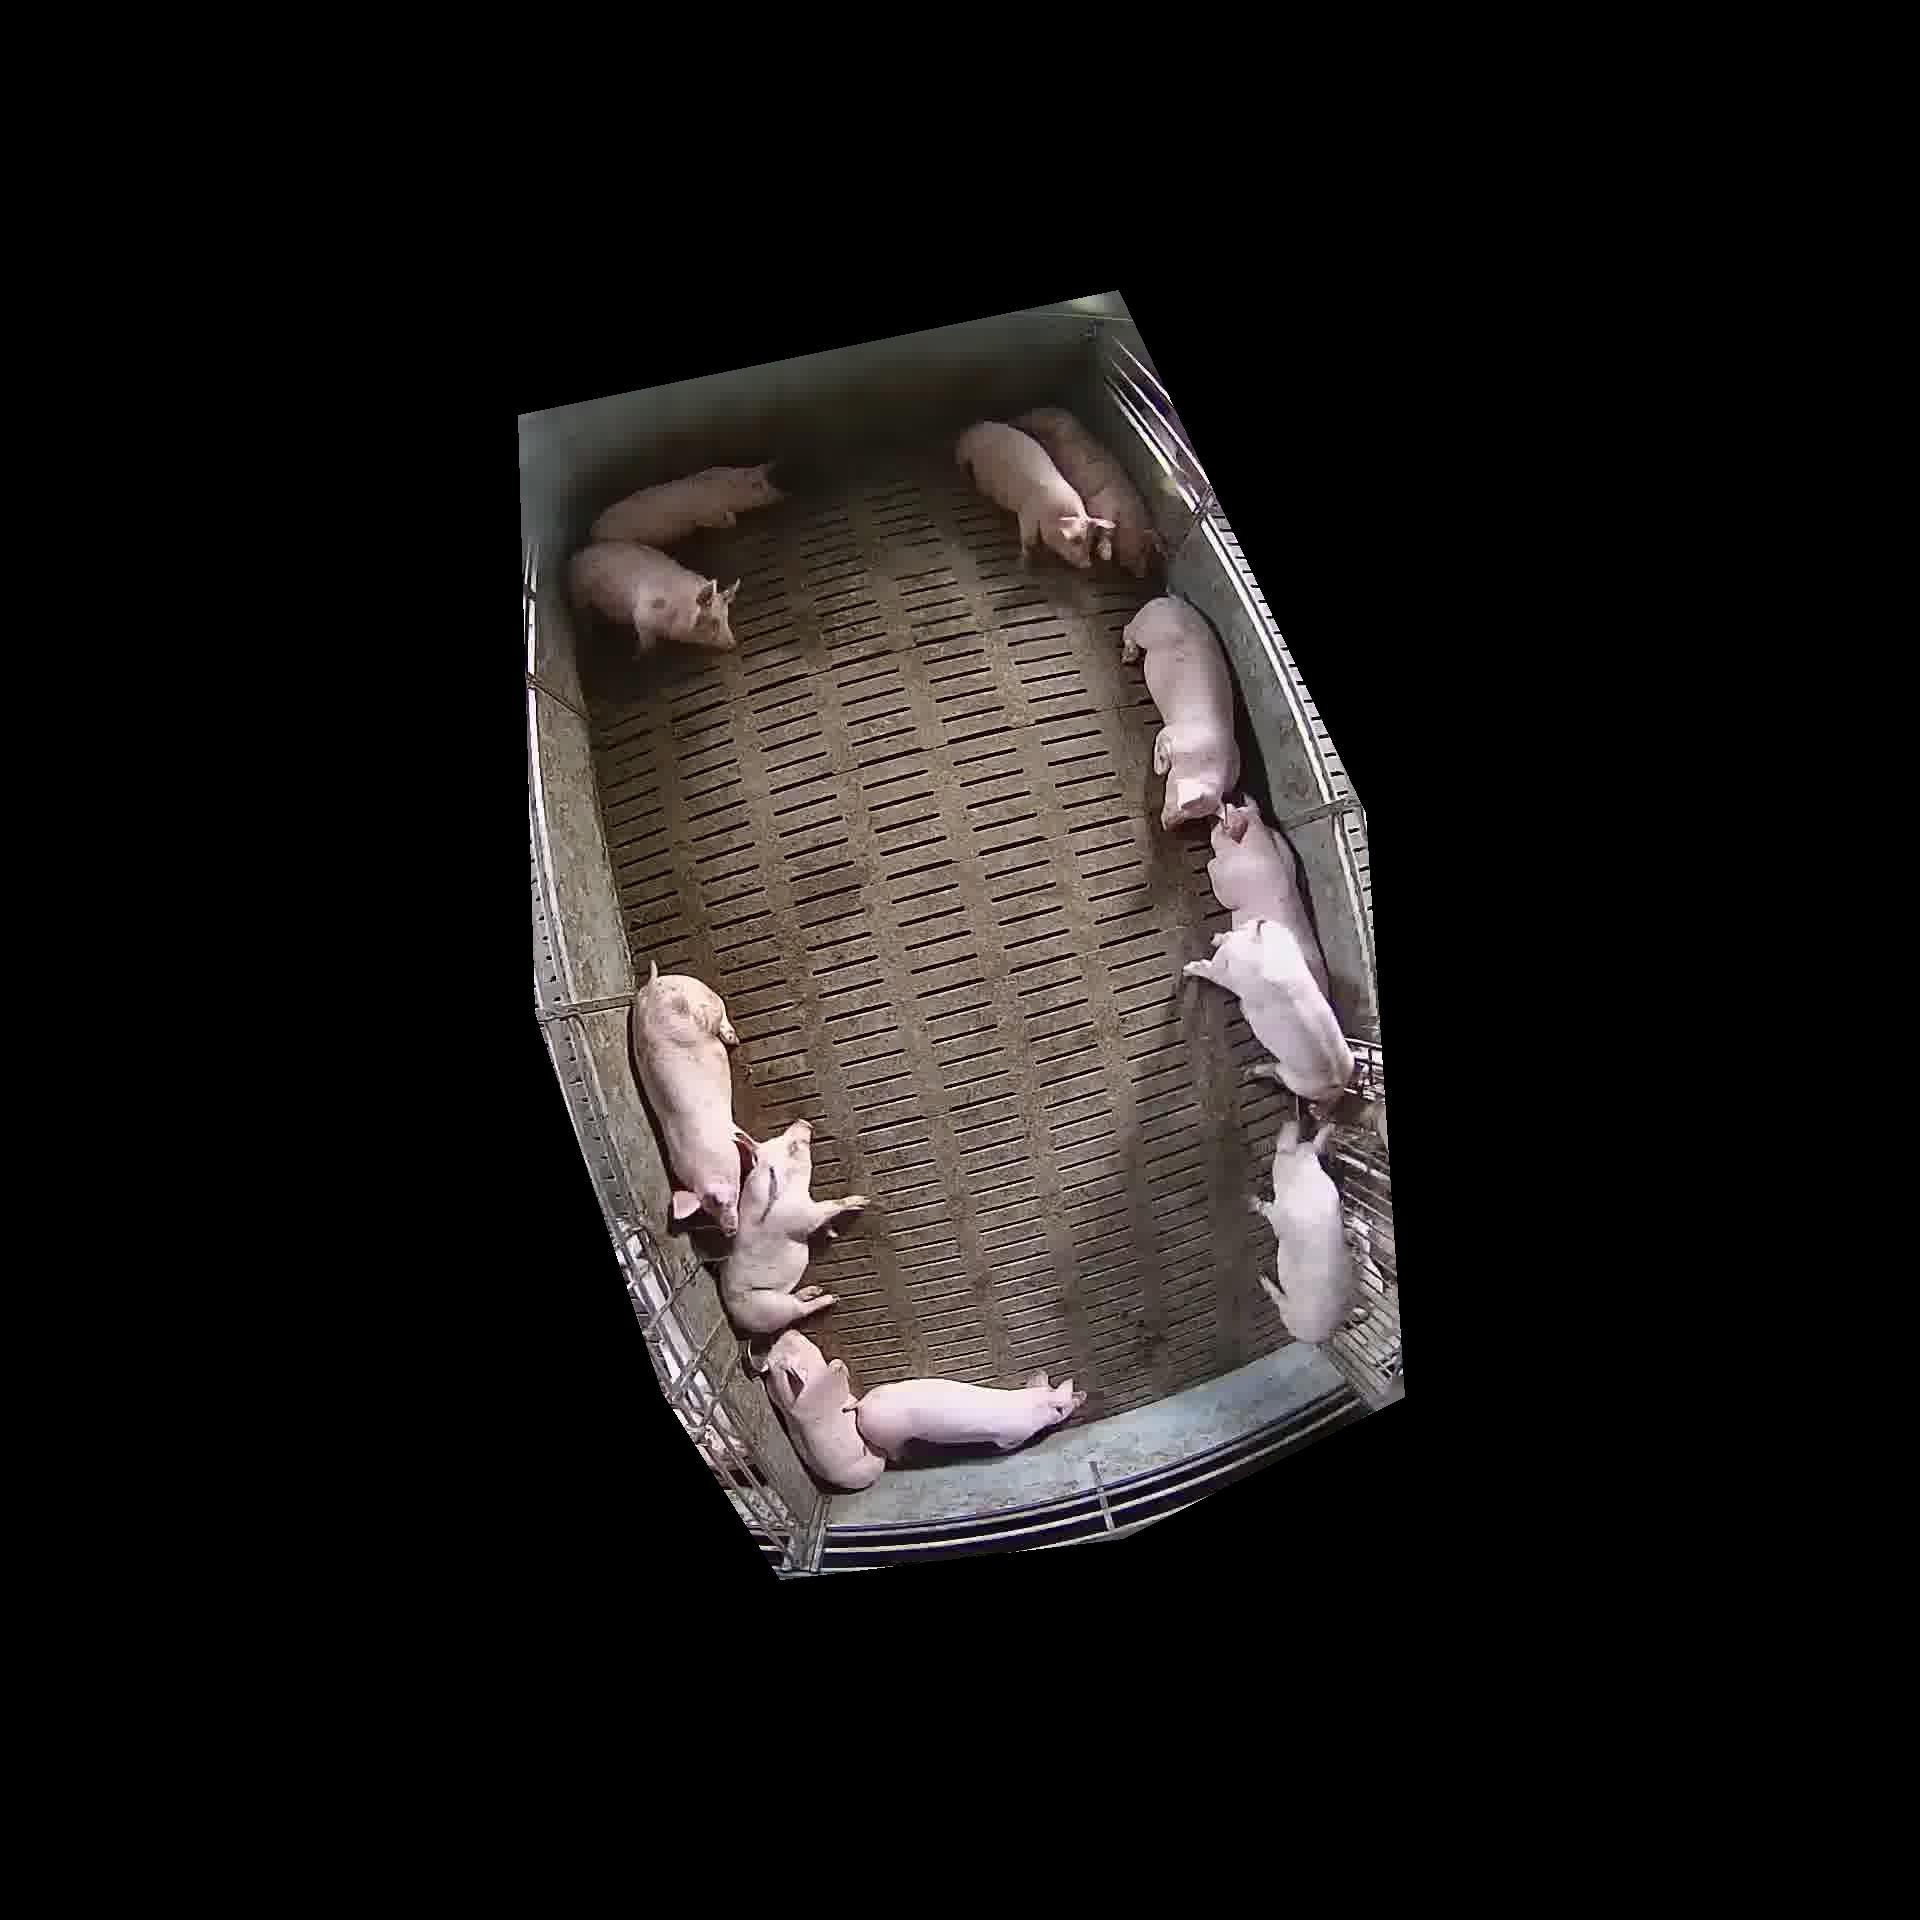pig: (1183, 920, 1352, 1102), (721, 1120, 863, 1331), (631, 964, 740, 1233), (1124, 596, 1240, 826), (1013, 406, 1160, 575), (1208, 796, 1327, 993), (955, 422, 1111, 566), (1254, 1122, 1354, 1343), (760, 1329, 884, 1489), (856, 1375, 1085, 1458), (570, 540, 737, 651), (591, 462, 781, 547)
